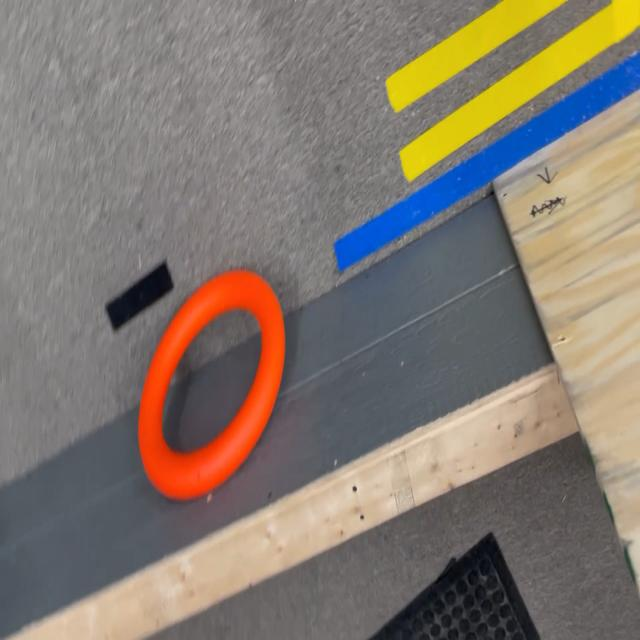note: (137, 268, 286, 498)
